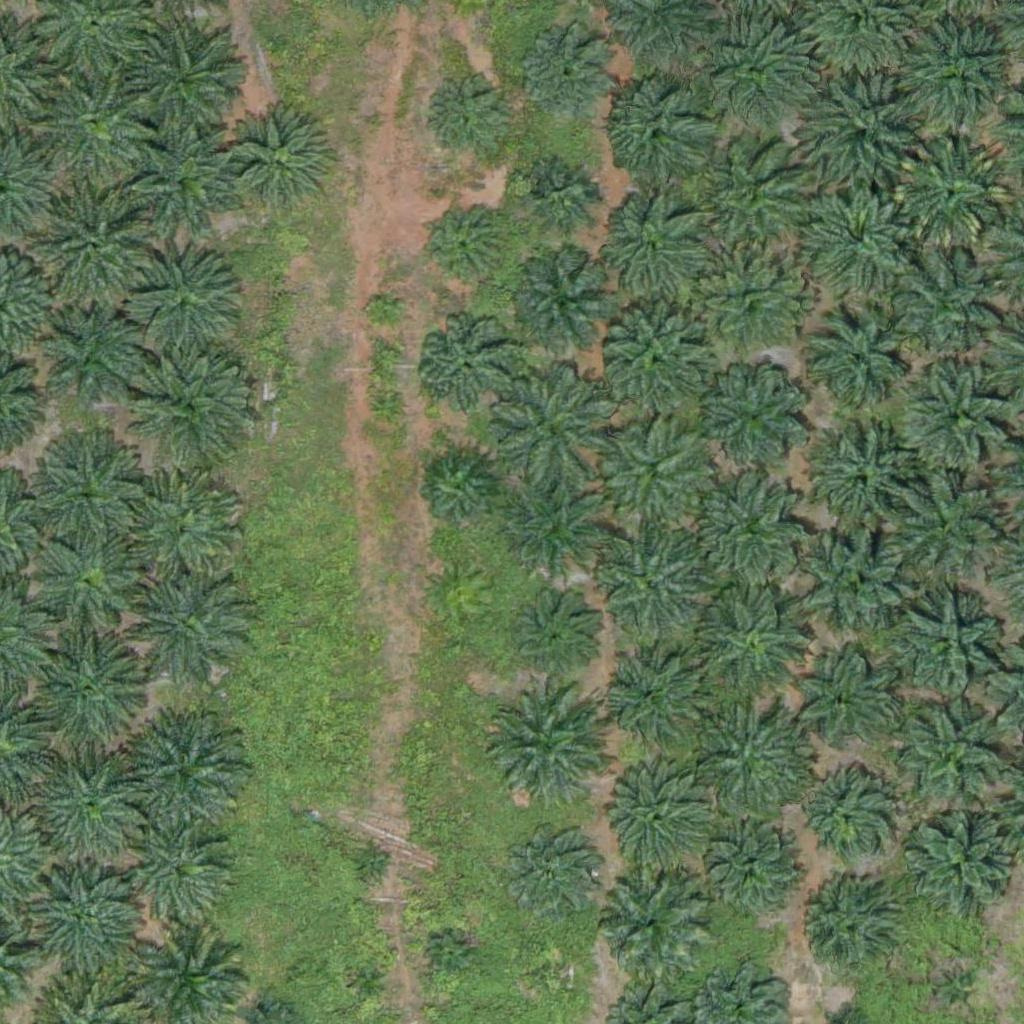Kelapa_Sawit: (120, 20, 245, 146), (126, 241, 251, 367), (125, 337, 250, 463), (27, 189, 152, 315), (34, 61, 159, 187), (487, 363, 612, 489), (26, 429, 151, 555), (120, 467, 245, 593), (19, 864, 144, 990), (27, 750, 152, 876), (22, 629, 147, 755), (124, 567, 249, 693), (120, 712, 245, 838), (480, 683, 605, 809), (890, 697, 1015, 823), (692, 698, 817, 823), (901, 13, 1014, 127), (696, 139, 809, 252), (690, 245, 803, 358), (602, 306, 715, 419), (592, 190, 705, 303), (602, 74, 715, 187), (223, 109, 336, 222), (33, 307, 146, 420), (700, 356, 813, 469), (808, 426, 921, 539), (591, 866, 704, 979), (695, 471, 808, 584), (695, 584, 808, 697), (793, 522, 906, 635), (907, 812, 1020, 925), (129, 123, 241, 237), (887, 473, 999, 587), (895, 135, 1007, 248), (894, 251, 1006, 364), (801, 304, 913, 417), (801, 180, 913, 293), (808, 78, 920, 191), (699, 13, 811, 126), (902, 360, 1014, 473), (600, 422, 712, 535), (501, 473, 613, 586), (596, 529, 708, 642), (598, 762, 710, 875), (889, 586, 1001, 699), (520, 24, 620, 125), (512, 255, 612, 356), (131, 827, 231, 928), (501, 822, 601, 923), (604, 650, 704, 751), (702, 822, 802, 923), (792, 650, 892, 751), (794, 767, 894, 868), (792, 880, 892, 981), (416, 318, 516, 418), (38, 537, 138, 637), (425, 76, 513, 164), (423, 204, 511, 292), (513, 587, 600, 675), (422, 452, 497, 528), (524, 159, 599, 234), (927, 965, 977, 1015), (351, 963, 389, 1001), (352, 844, 390, 882), (366, 295, 403, 333), (537, 957, 575, 994), (433, 937, 470, 975)
